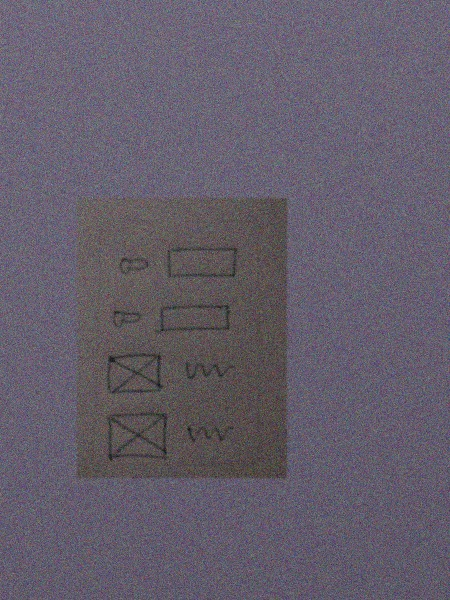image: (103, 410, 175, 463), (105, 351, 164, 397)
switch: (118, 254, 154, 276), (111, 307, 142, 331)
text: (182, 357, 236, 386), (185, 420, 234, 446)
text_input: (164, 246, 239, 280), (154, 305, 236, 333)
